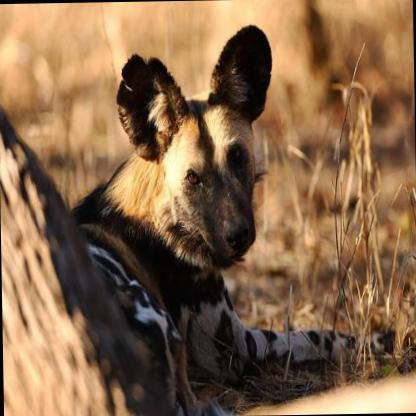African_hunting_dog: (66, 19, 392, 416)
